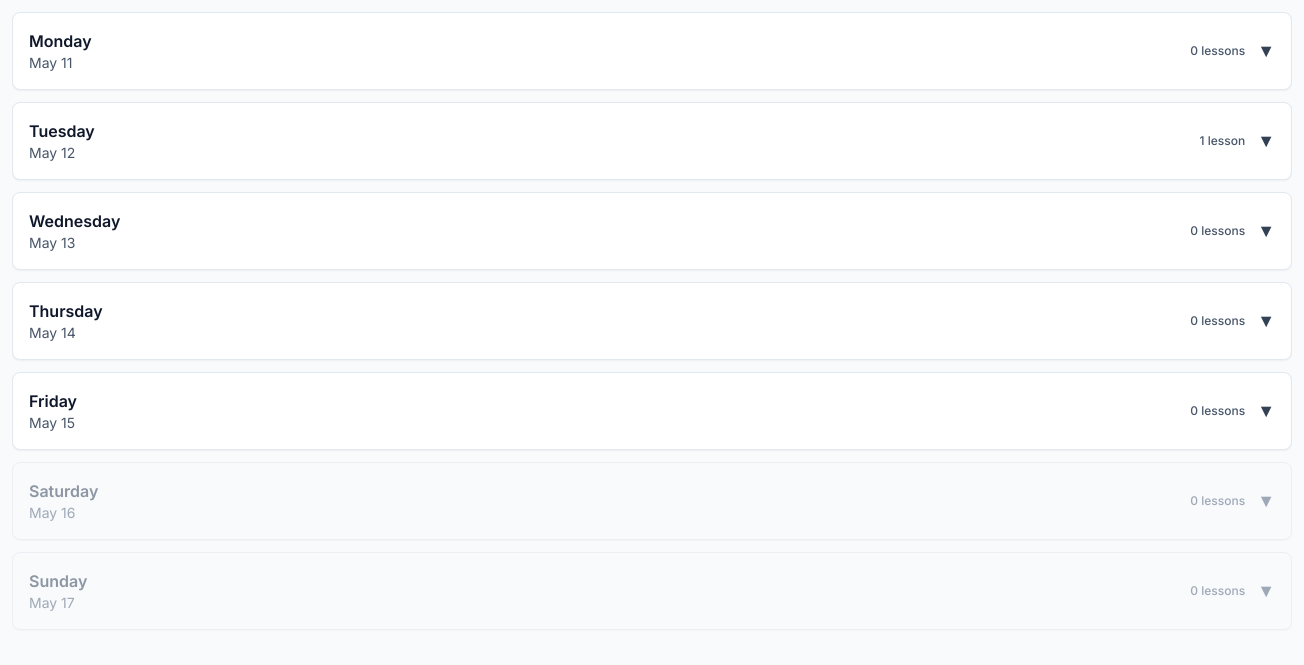
it: WeeklyList (mobile) › collapsing a day section hides lessons
This screenshot has width=1304, height=665.
What coordinates should you click on to do the following:
click the button "Tuesday May 12 1 lesson ▼"
I would click on:
 (62, 131)
Its box is [13,103,1291,179].
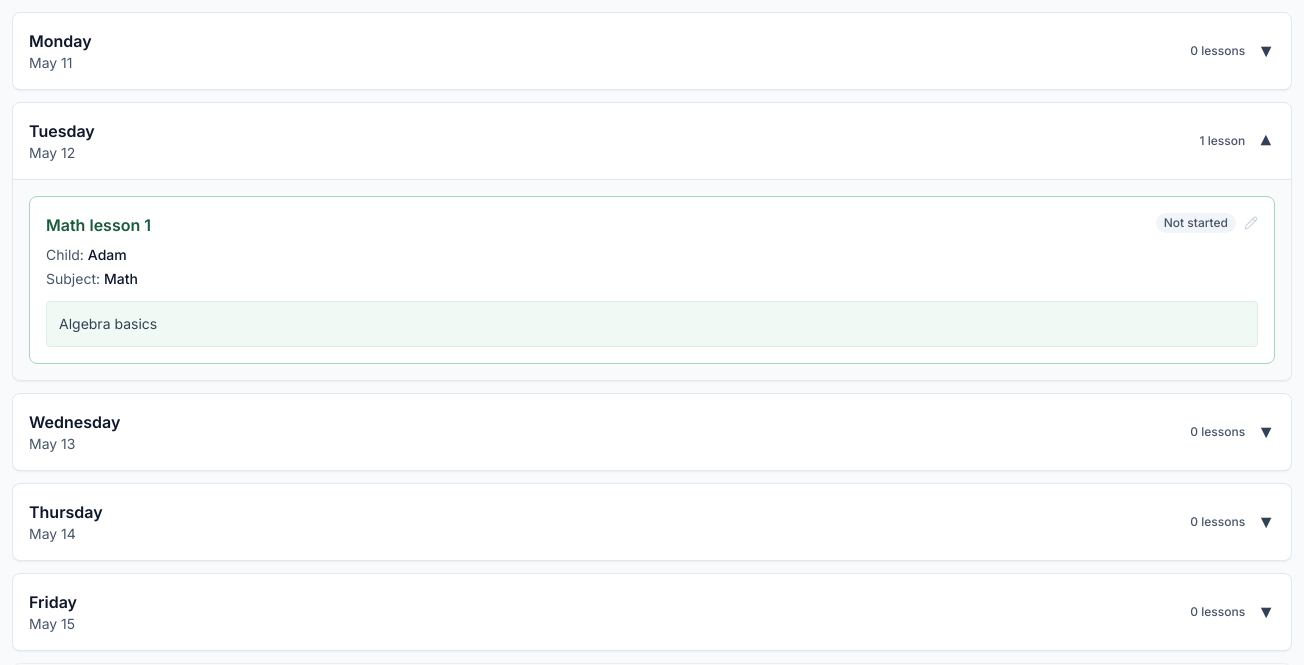
Check: the text "Math lesson 1" is shown, box [46,213,151,237]
What coordinates should you click on to do the following:
click the button "Tuesday May 12 1 lesson ▼"
I would click on:
 (62, 131)
Its box is [13,103,1291,179].
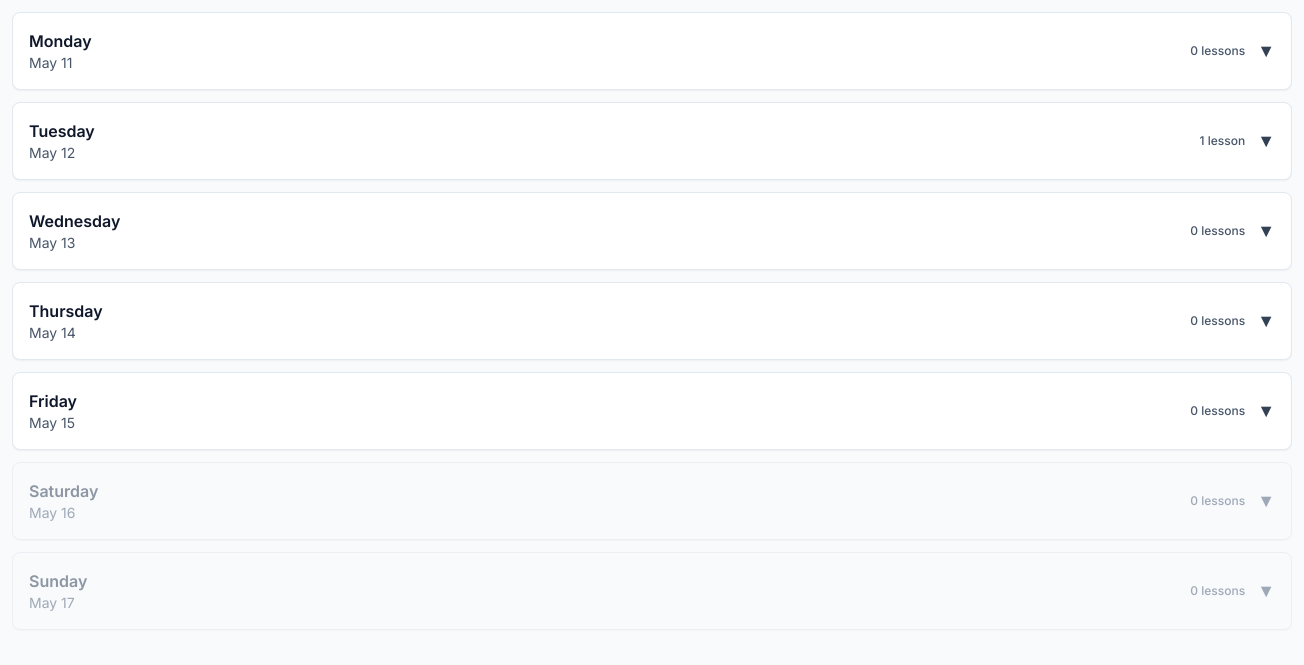
Check: the button "Math lesson 1" is gone
